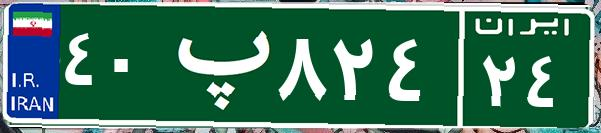0: (110, 28, 158, 105)
2: (330, 28, 385, 110), (475, 38, 525, 113)
4: (385, 28, 445, 110), (57, 26, 110, 107), (525, 38, 570, 115)
8: (273, 28, 330, 110)
پ: (158, 15, 273, 115)
